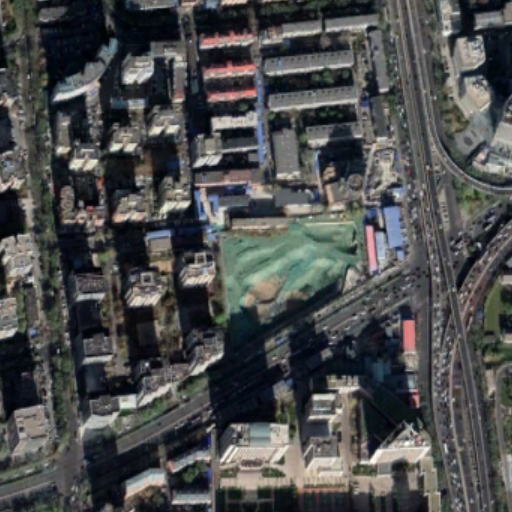cw: (217, 215, 370, 328)
